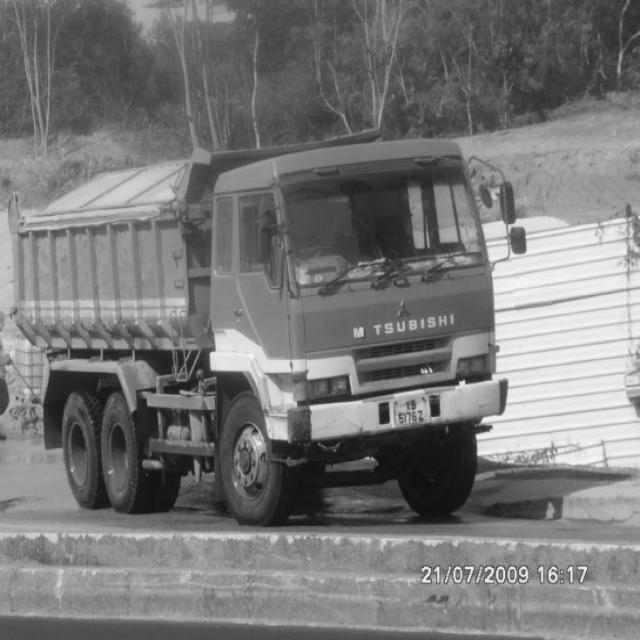truck: (184, 109, 551, 520)
